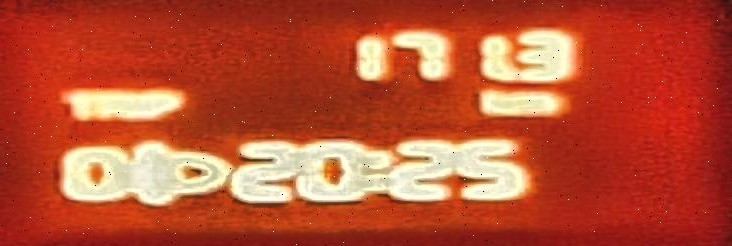0: (296, 137, 367, 203), (55, 144, 132, 204)
1: (476, 32, 512, 81), (351, 33, 386, 82)
2: (224, 139, 297, 204), (387, 138, 454, 201)
3: (513, 27, 576, 82)
5: (453, 136, 530, 201)
7: (388, 28, 453, 81)
X: (516, 87, 573, 120), (146, 86, 189, 121), (477, 84, 516, 122), (57, 86, 94, 121), (94, 86, 128, 123), (365, 147, 391, 194), (128, 85, 145, 125)
